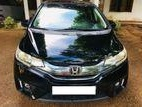car: (6, 1, 128, 99)
